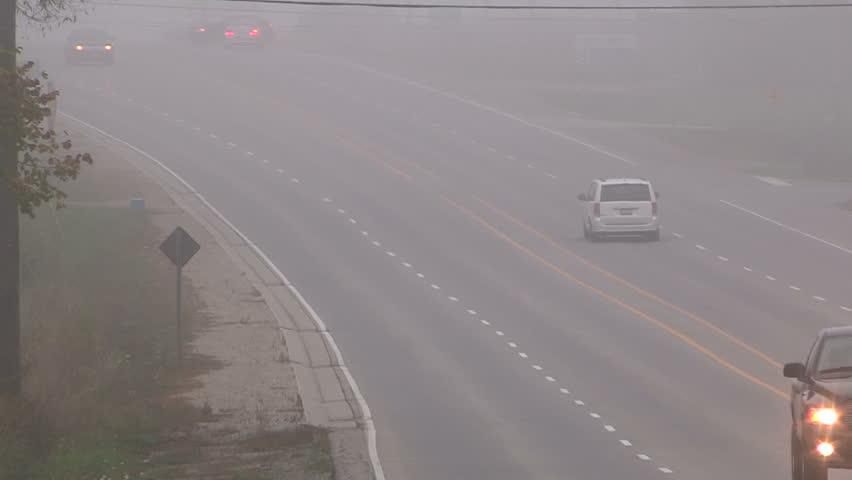car: (778, 322, 852, 478), (575, 176, 660, 243), (62, 29, 117, 66), (222, 15, 273, 52)
